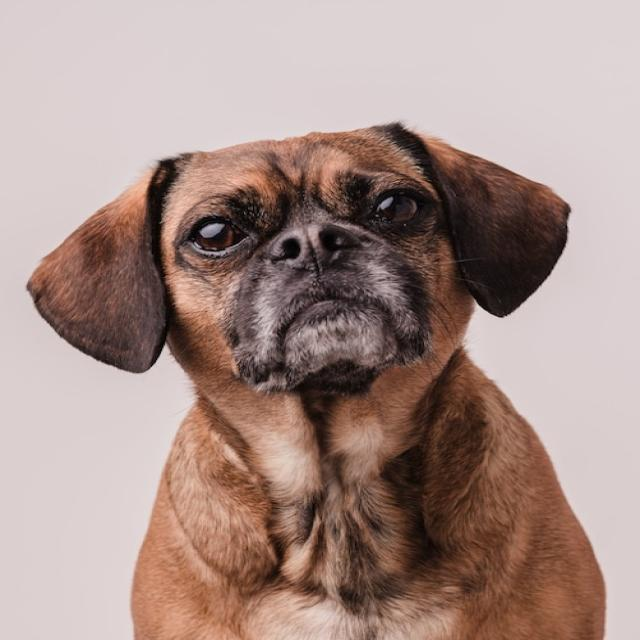Dog: (28, 120, 606, 640)
